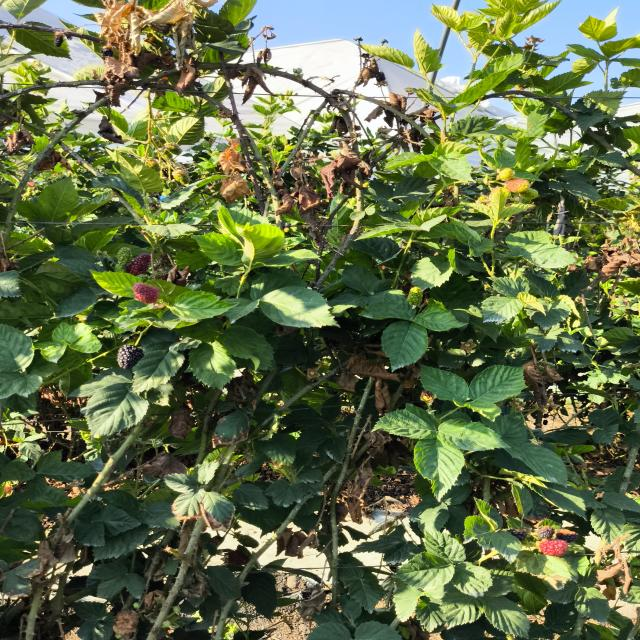maduro: (117, 345, 143, 369)
marron: (126, 254, 151, 275)
naranja: (133, 283, 159, 303), (539, 540, 568, 556)
verde: (115, 247, 132, 272), (504, 178, 530, 193), (407, 287, 422, 305), (521, 187, 538, 200), (497, 168, 515, 180)
